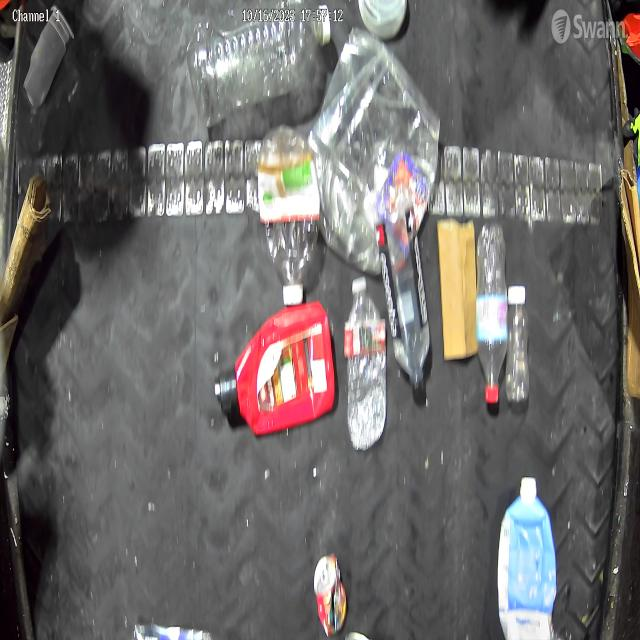can: (313, 553, 348, 638)
non_white_jug: (214, 301, 334, 437), (496, 478, 558, 640)
plastic_bottle: (313, 28, 443, 276), (186, 5, 330, 128), (259, 124, 323, 306), (375, 202, 431, 403), (344, 277, 387, 450), (476, 223, 509, 403), (507, 285, 531, 405)
